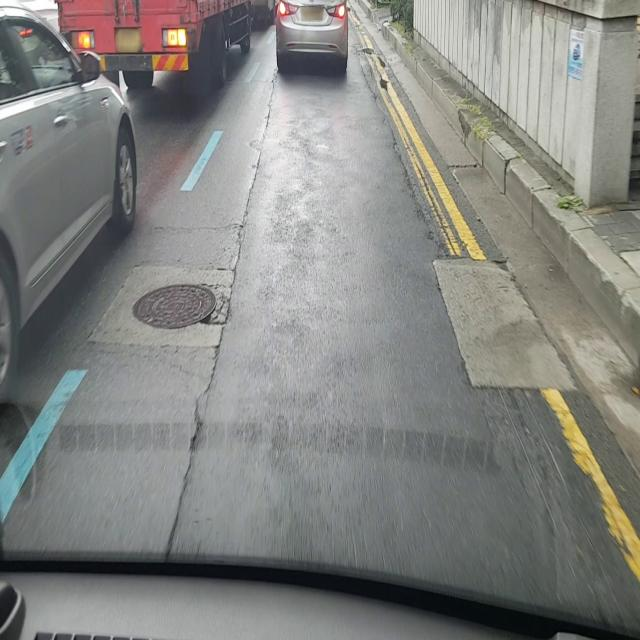Pothole: (133, 283, 229, 330)
